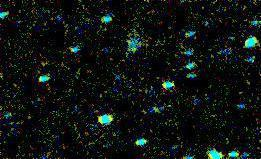star: (120, 36, 150, 66)
